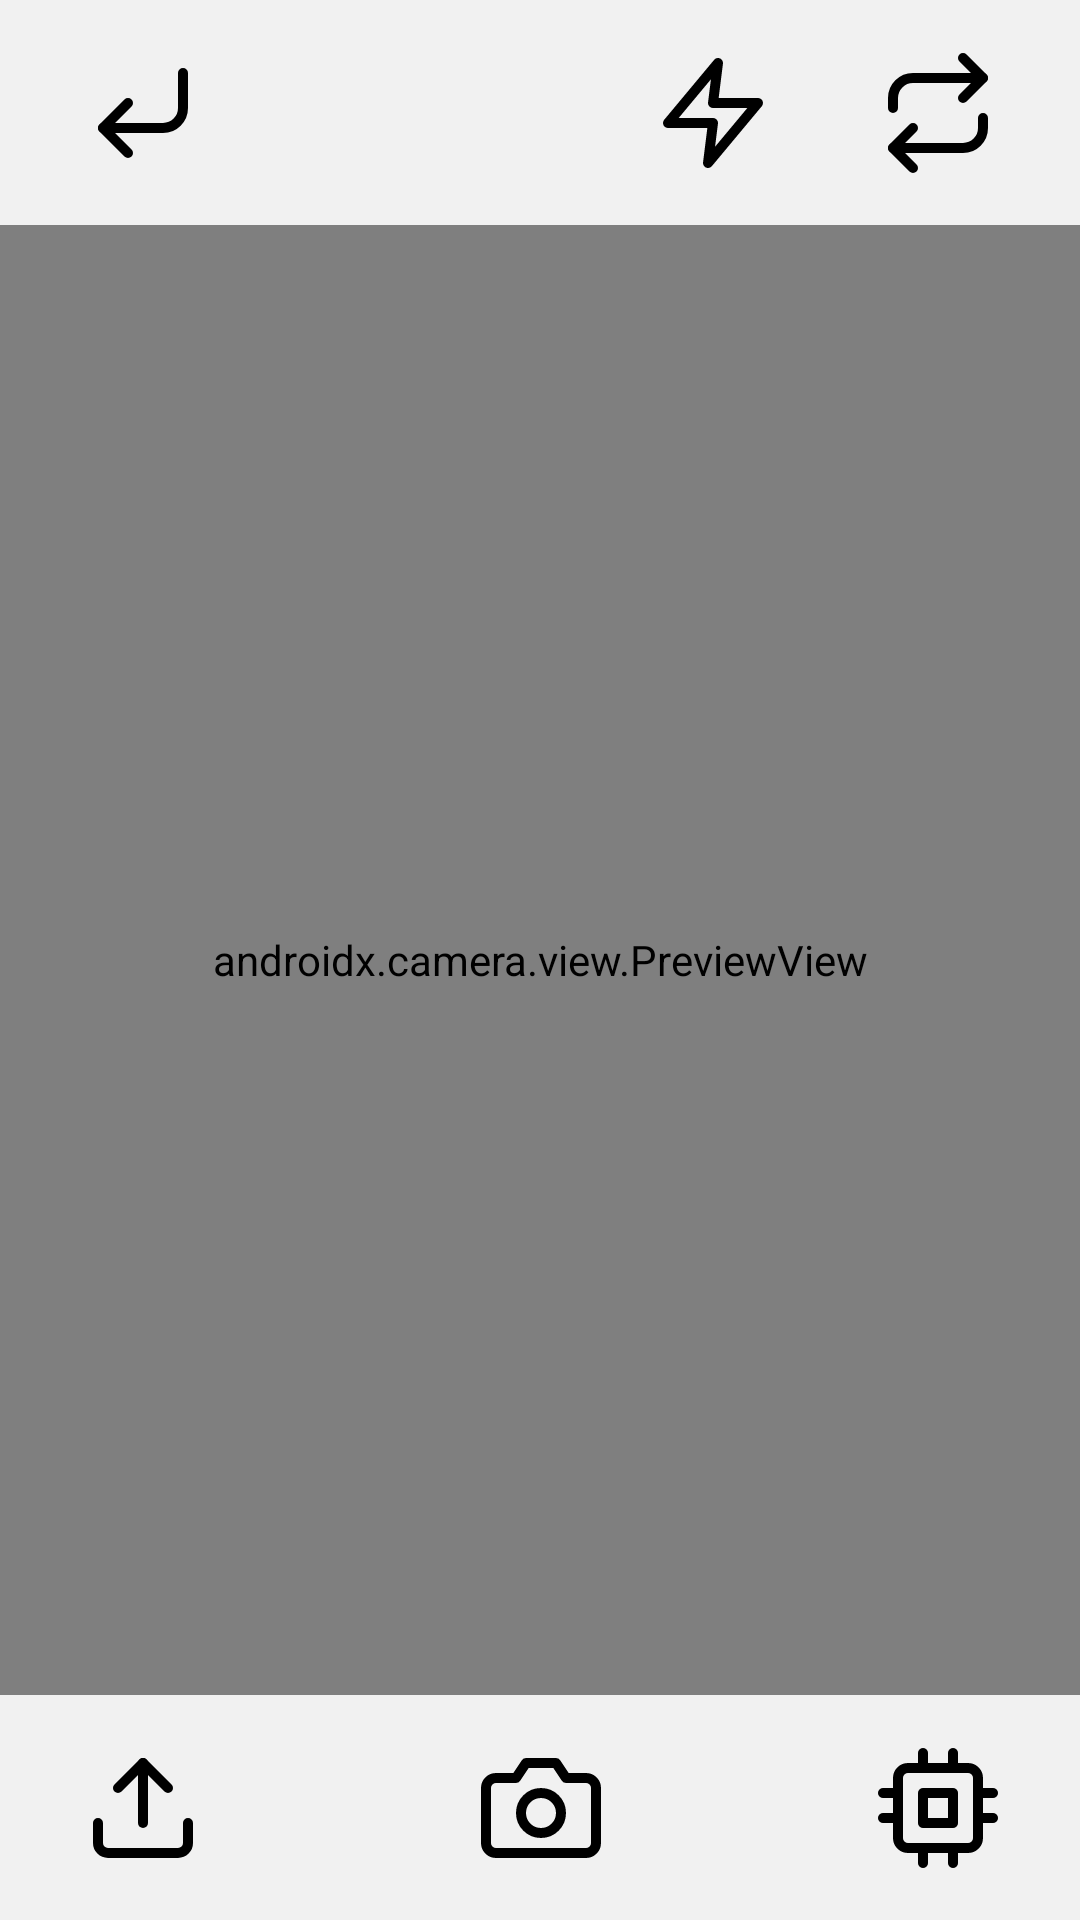

Screen size 1080 x 1920. Icon name, then its center in pixels as (x=x, y=y):
flashon: (x=713, y=113)
flip: (x=938, y=113)
process: (x=938, y=1808)
return: (x=143, y=113)
upload: (x=143, y=1808)
